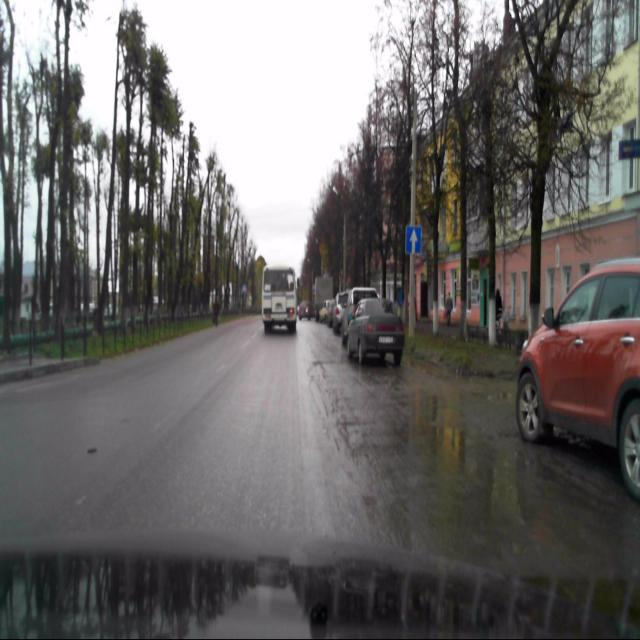road sign: (406, 225, 422, 254)
